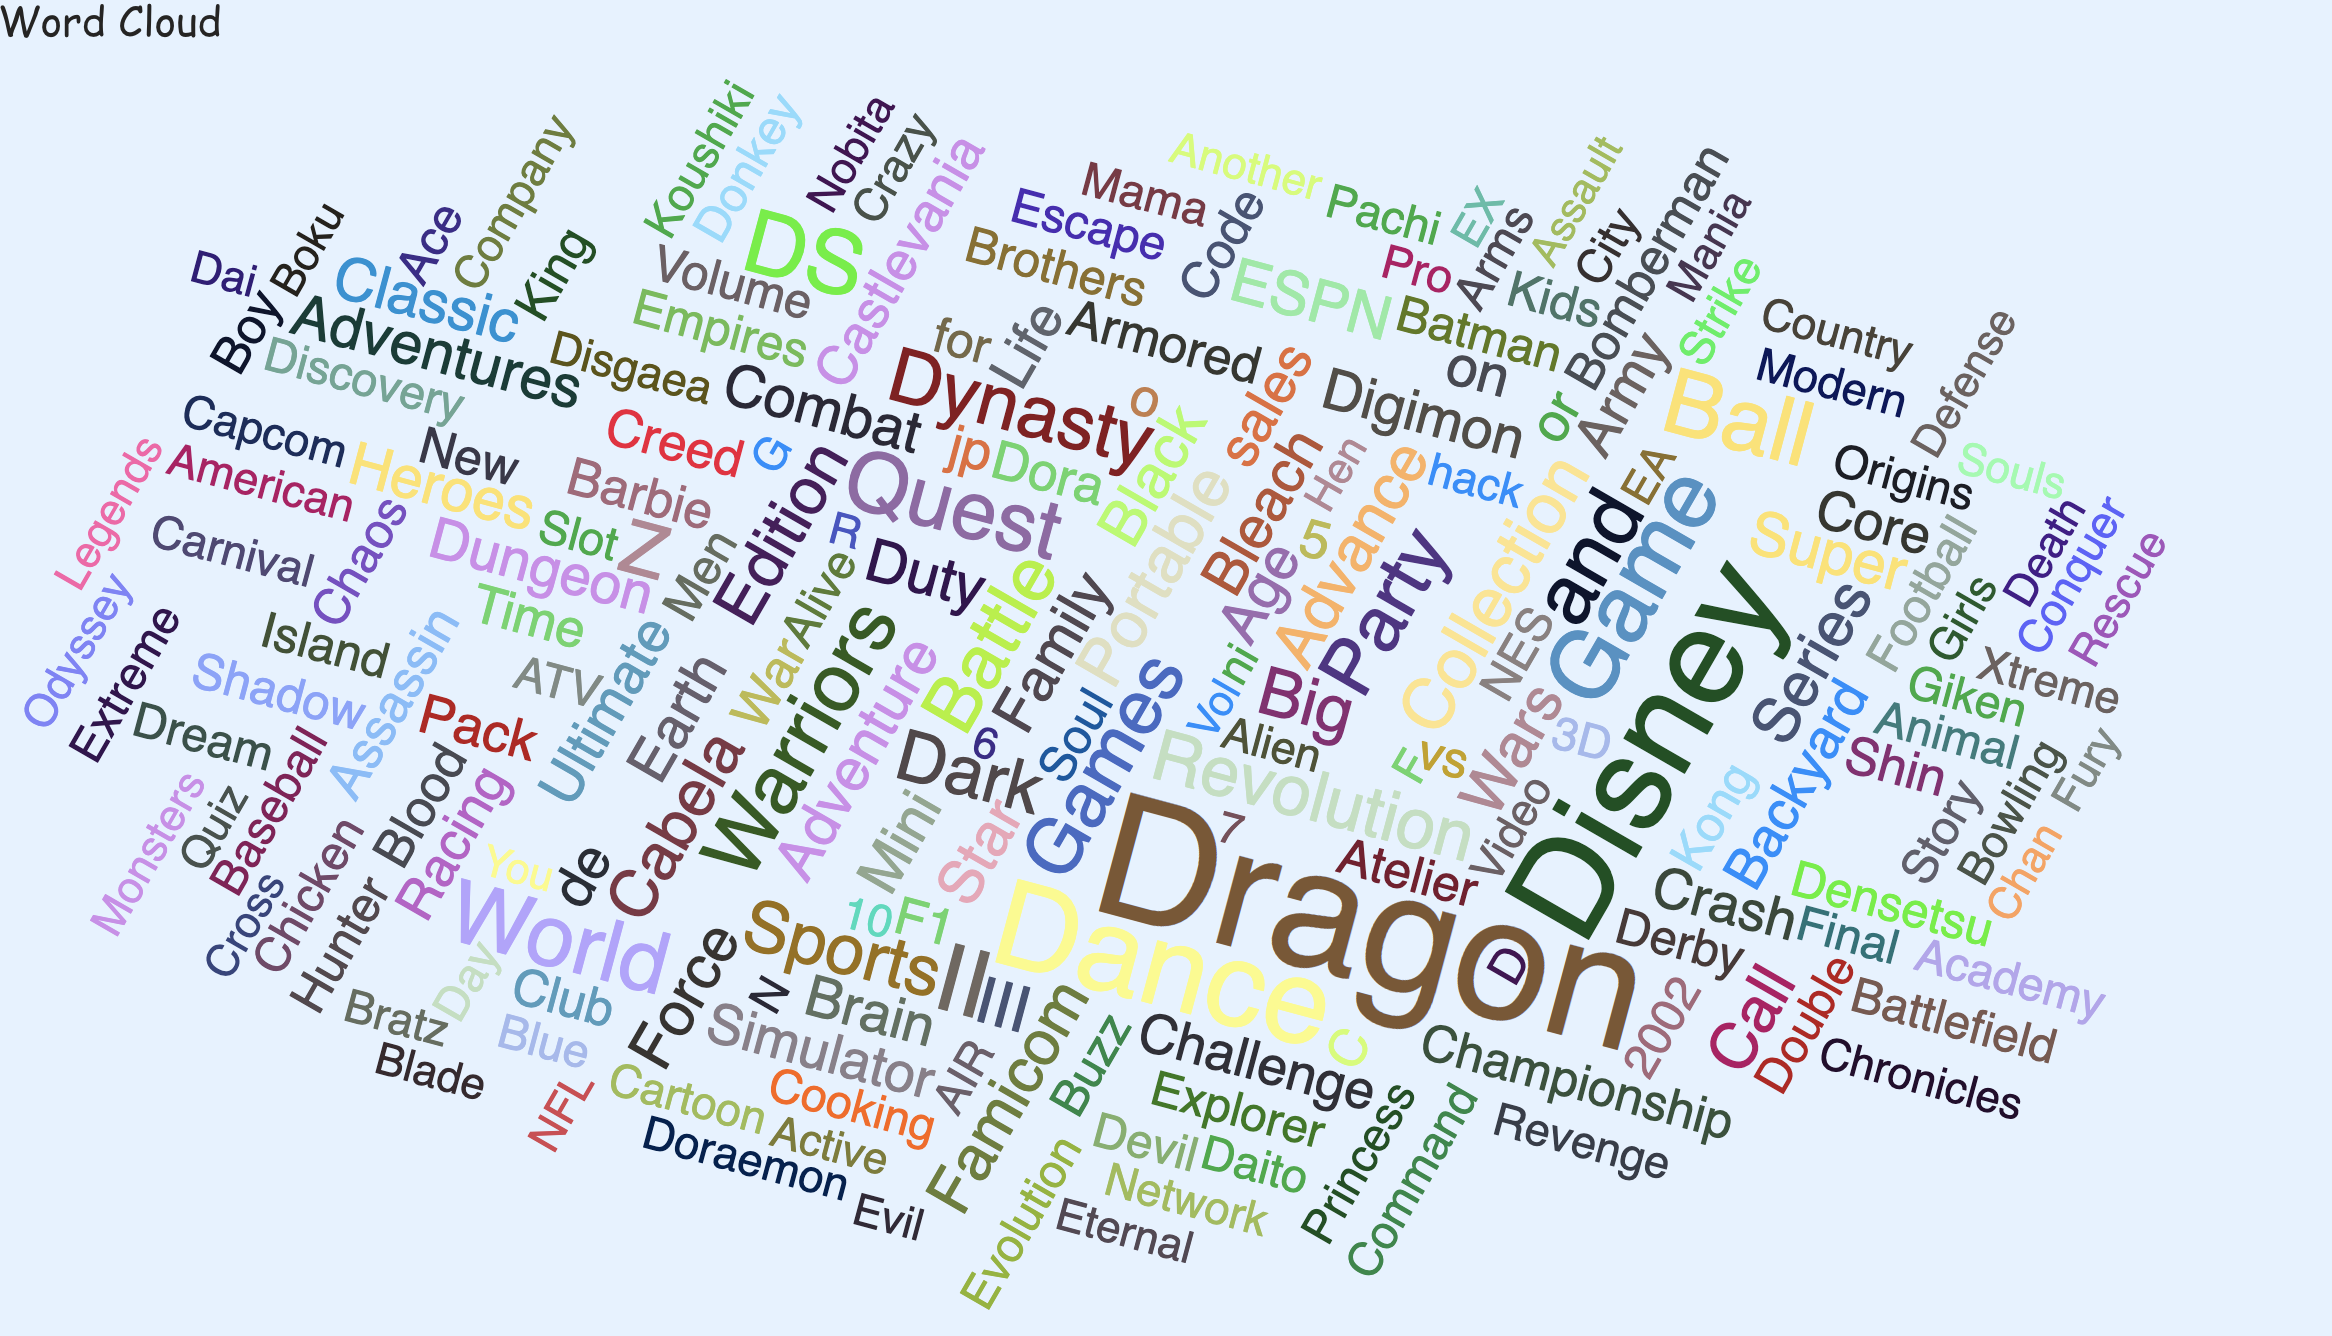

This screenshot's page, from the dashboard's own definition file:
{"tool":"powerbi","page":{"name":"word cloud","canvas":[1280,720],"ordinal":3},"visuals":[{"type":"WordCloud1447959067750","title":"Word  Cloud","fields":{"Category":["vgsales.Name"]},"box":[0,0,1280,719.9],"z":1001}]}

Visuals, with their boxes in screenshot pixels (x1, y1, x2, y2), scaled from the page's 1280x720 canvas onto the 2332x1336 screenshot:
"Word  Cloud" WordCloud1447959067750: bbox(0, 0, 2331, 1335)
